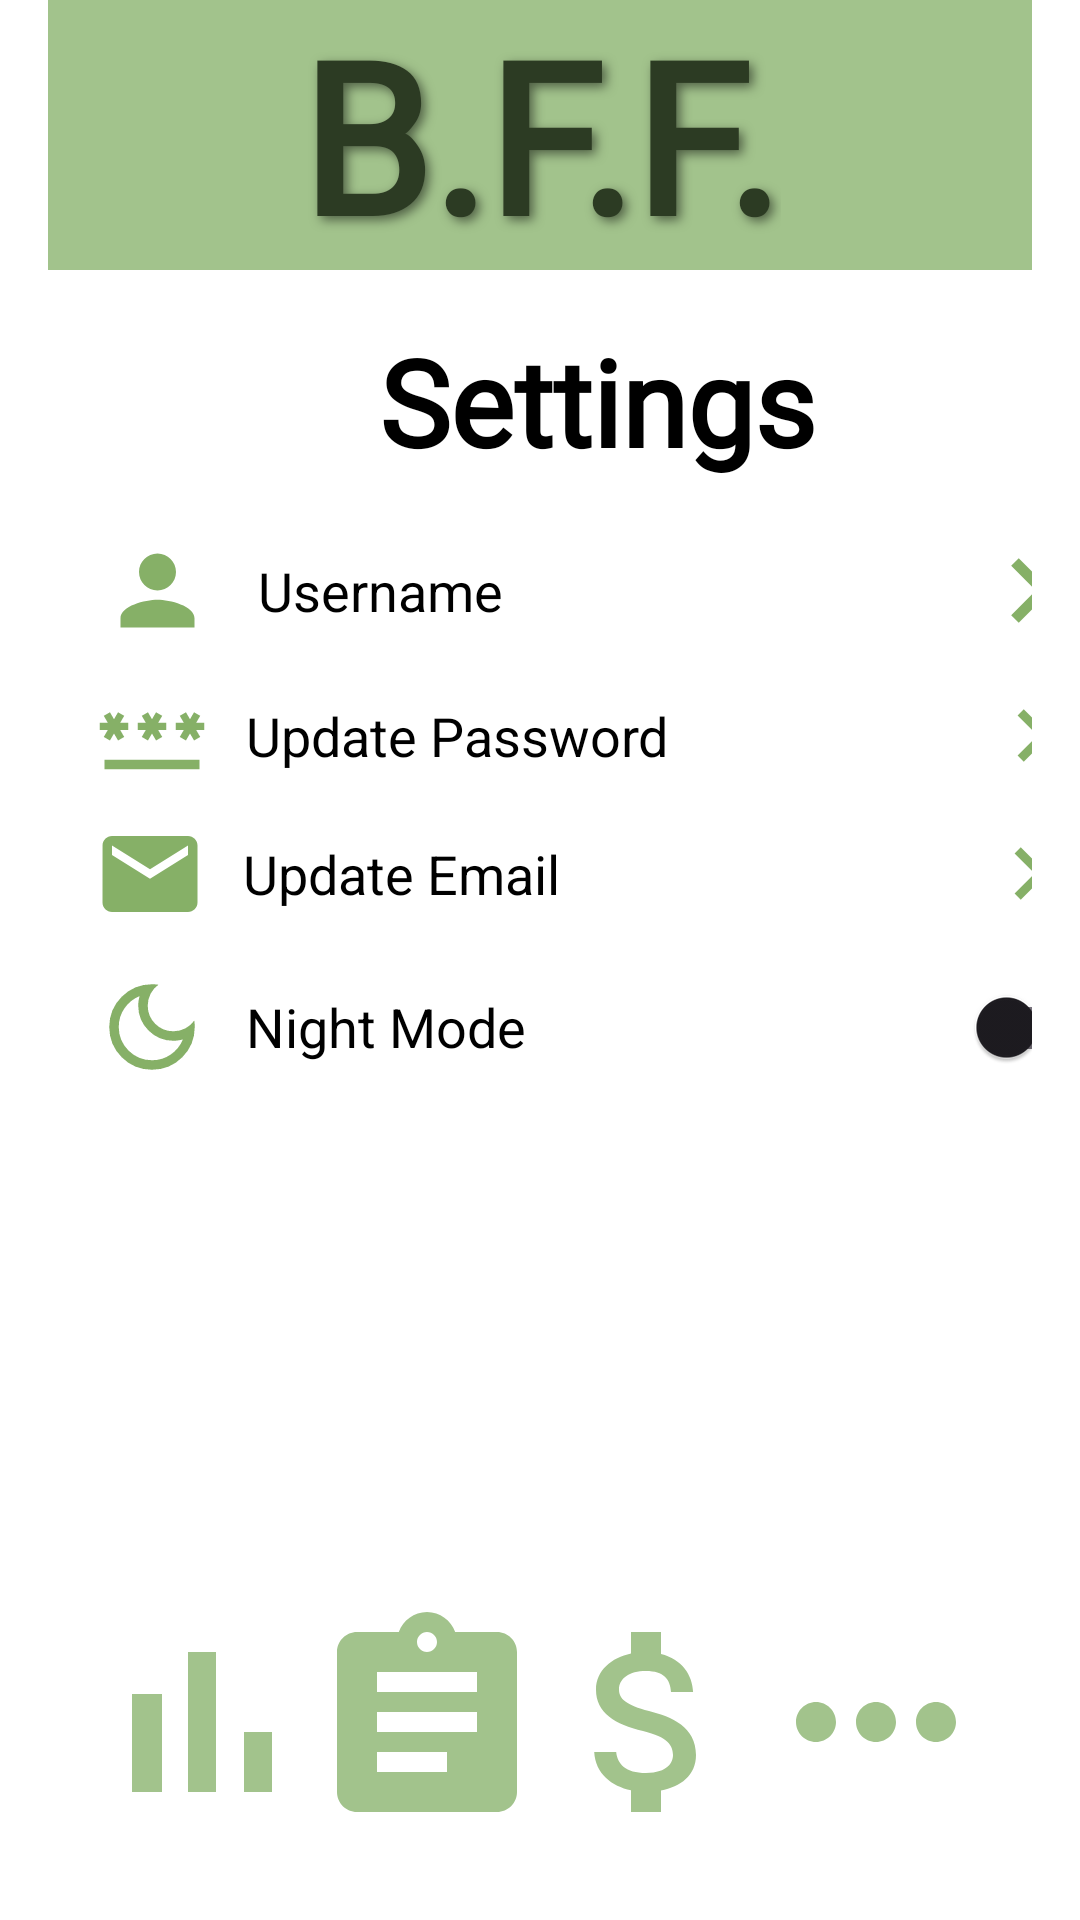

Screen size 1080px×1920px. Icon name, then its box in pixels as {"x1": x1, "y1": y1, "x2": x2, "y2": y2}:
Dark Mode: {"x1": 109, "y1": 984, "x2": 195, "y2": 1070}
